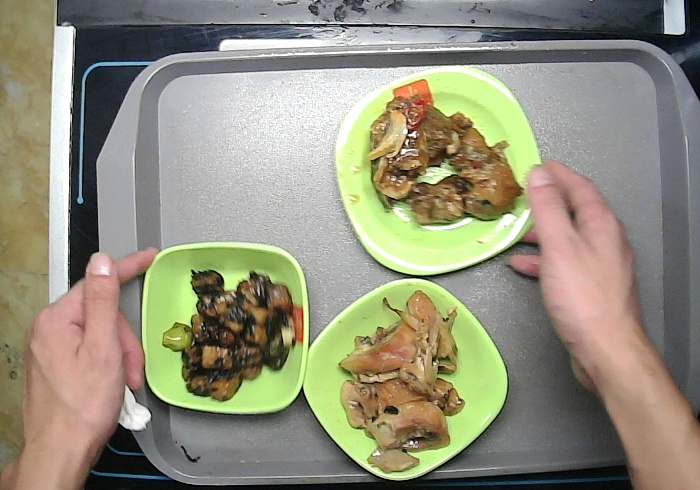SHKJ-Lv_Se_Cai_Die: (293, 276, 512, 482)
SHKJ-Lv_Se_Si_Fang_Cai_Die: (333, 62, 560, 283)
SHKJ-Lv_Se_Xiao_Fang_Die: (140, 238, 320, 417)
